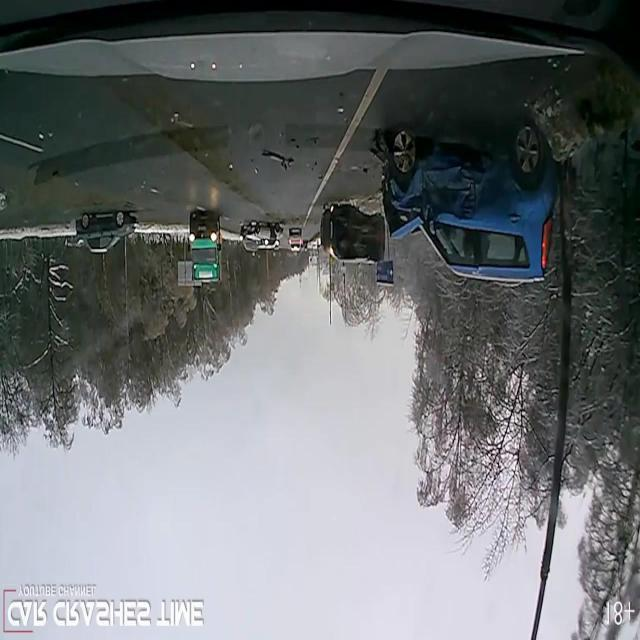severe: (316, 197, 391, 274)
